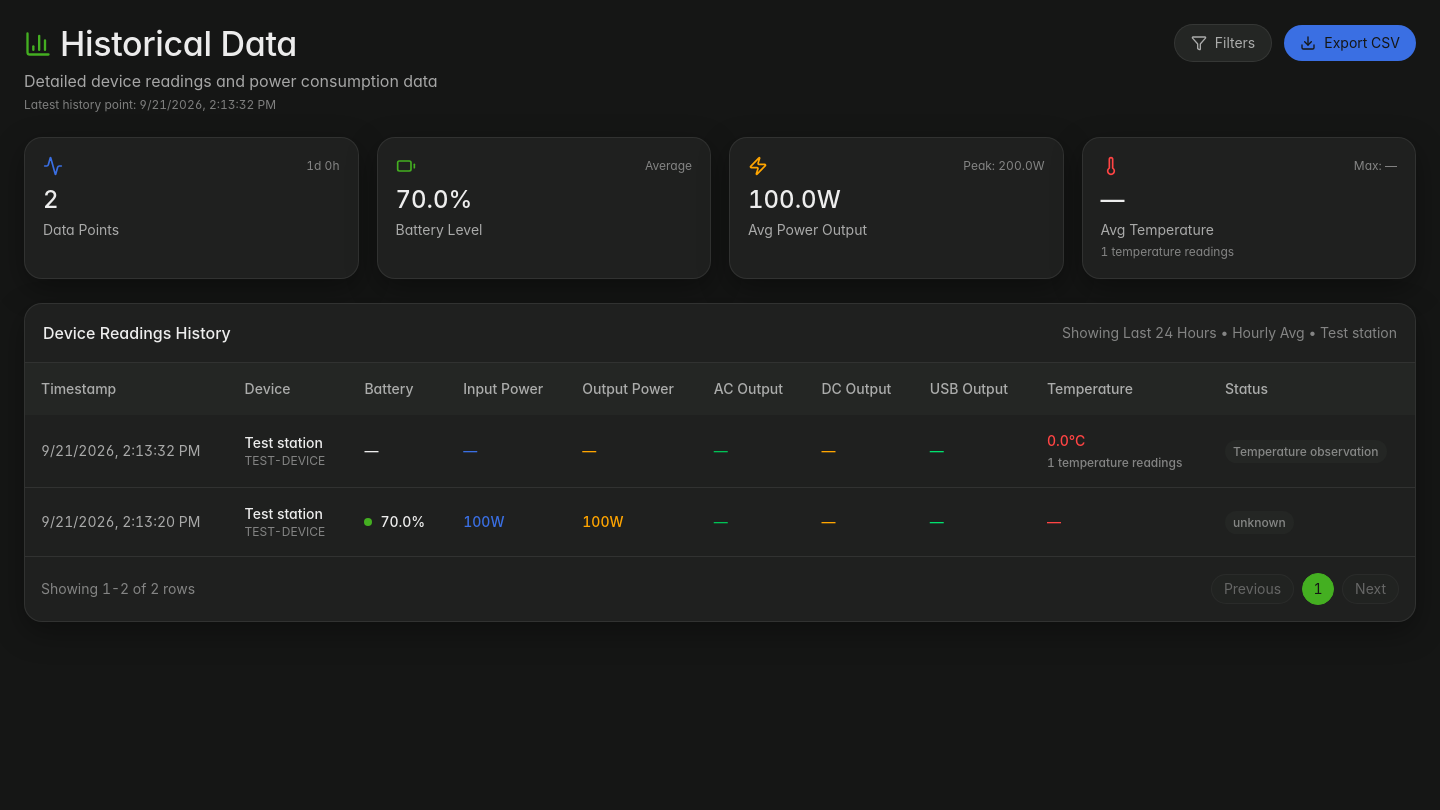
historical temperature display › should show an independent raw temperature with its actual receipt and unavailable power fields
Click the button "Filters". click: [1223, 43]
box: x1=1174 y1=24 x2=1272 y2=62
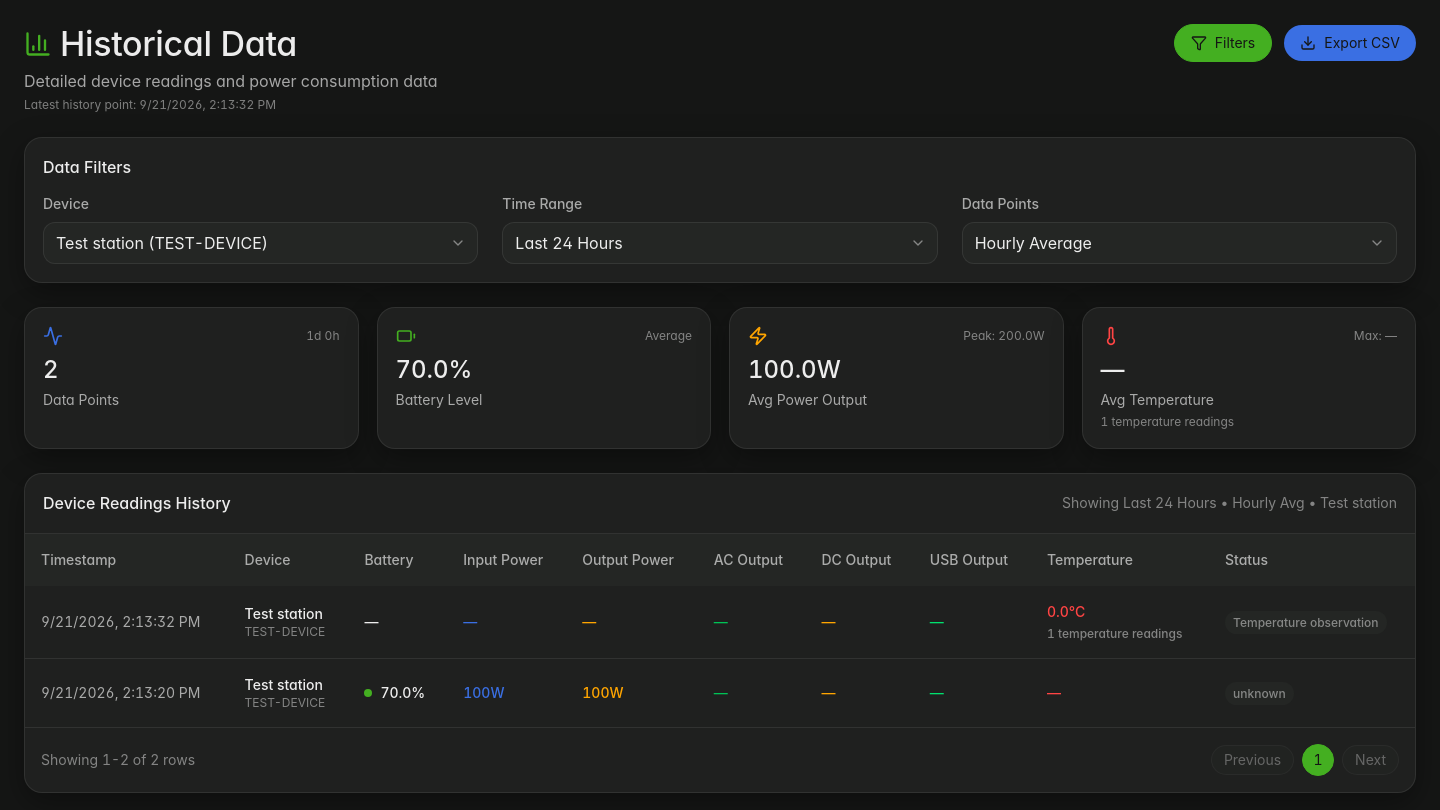
Select "Raw Data" in the 3rd dropdown. click: [1179, 243]
box: x1=962 y1=222 x2=1397 y2=264
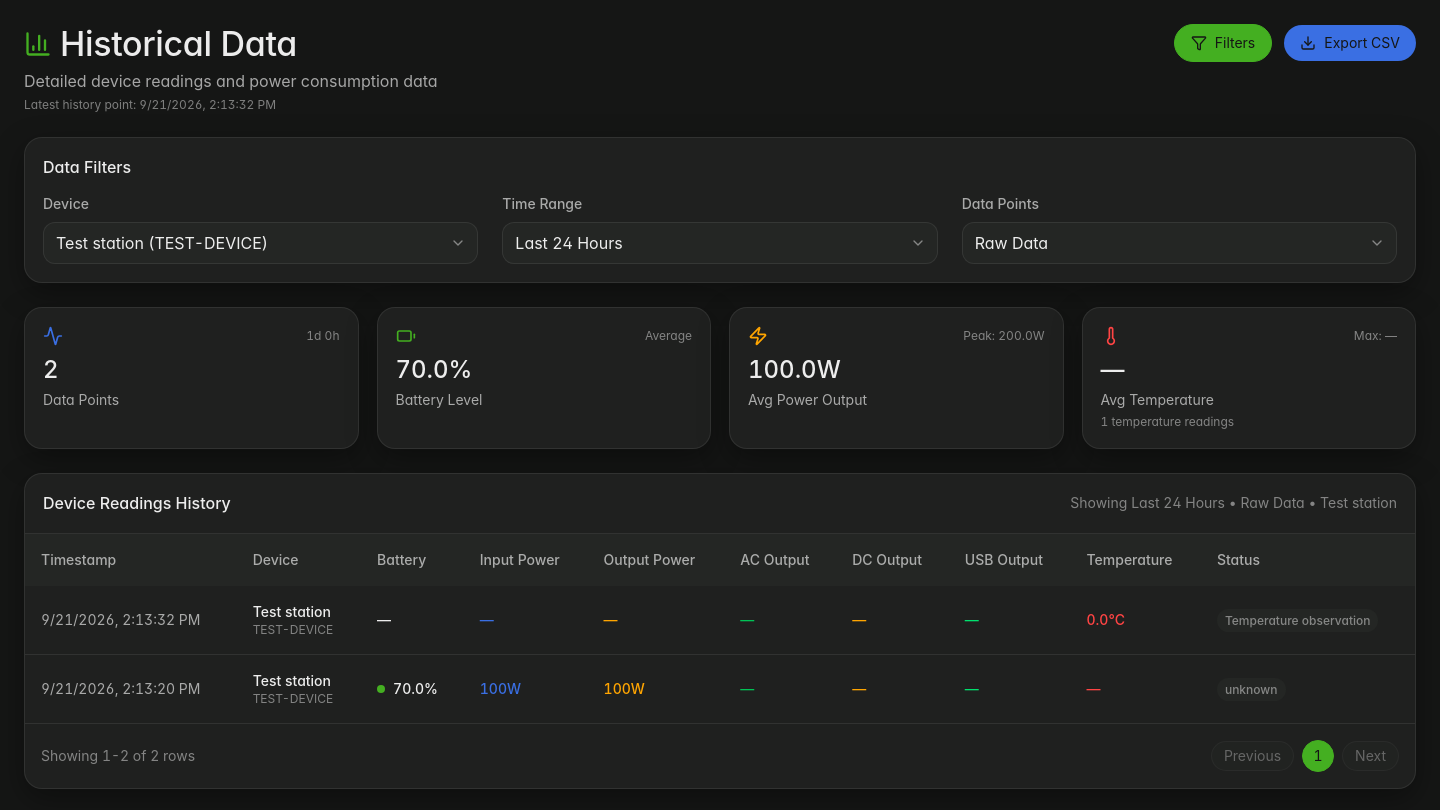
Expected: the text "Temperature observation" is shown, x1=1217 y1=609 x2=1378 y2=632
Result: the cell "0.0°C" is shown at x1=1070 y1=586 x2=1201 y2=654
